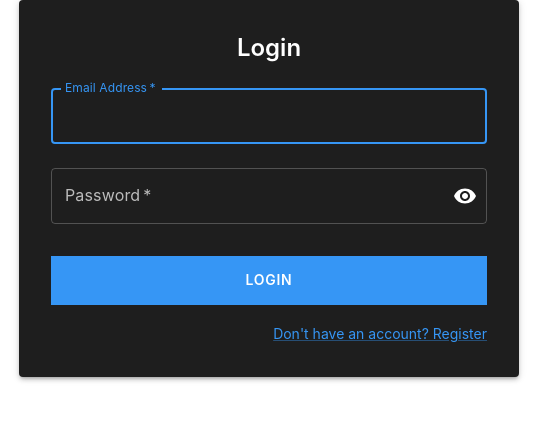
Scenario: LoginForm Component › validates email format
Enter invalid email
Type "invalid-email" into the field labelled "Email Address *".
click(269, 116); type("invalid-email")  # box [51, 88, 487, 144]
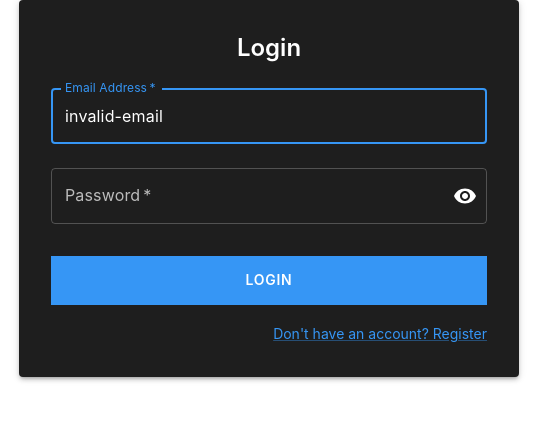
Submit the form
Click the button "Login".
click(269, 280)  # box [51, 256, 487, 304]
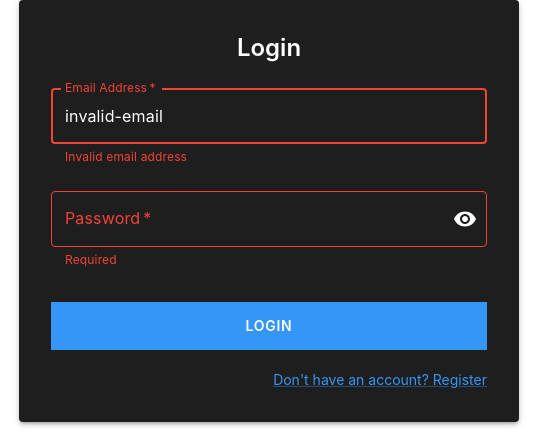
Result: the text "Invalid email address" is shown at [65, 149, 187, 164]
